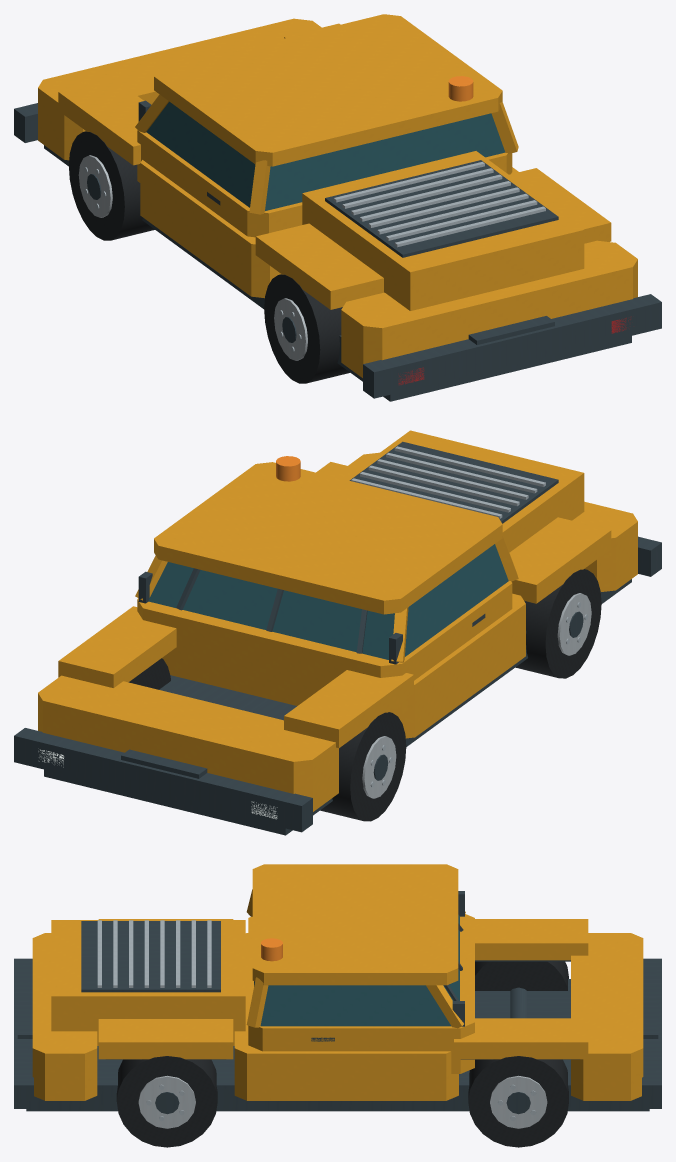
The model's file is vehicle_tug.glb.
3 views of the same model, one above another, from view 1: azimuth 30°, elevation 25°; view 2: azimuth 150°, elevation 25°; view 3: azimuth 270°, elevation 25° (orthographic). The views are drawn at different scales.
Parts seen in each view (by area): view 1: vehicle_tug; view 2: vehicle_tug; view 3: vehicle_tug.
Boxes of the visible parts, bbox=[...] form: vehicle_tug: bbox=[14, 14, 661, 401]; vehicle_tug: bbox=[14, 430, 661, 835]; vehicle_tug: bbox=[14, 864, 661, 1147].
Bounding box in the file's own units: 2.4 × 1.6 × 5.2.
10 materials, 10 textured.
